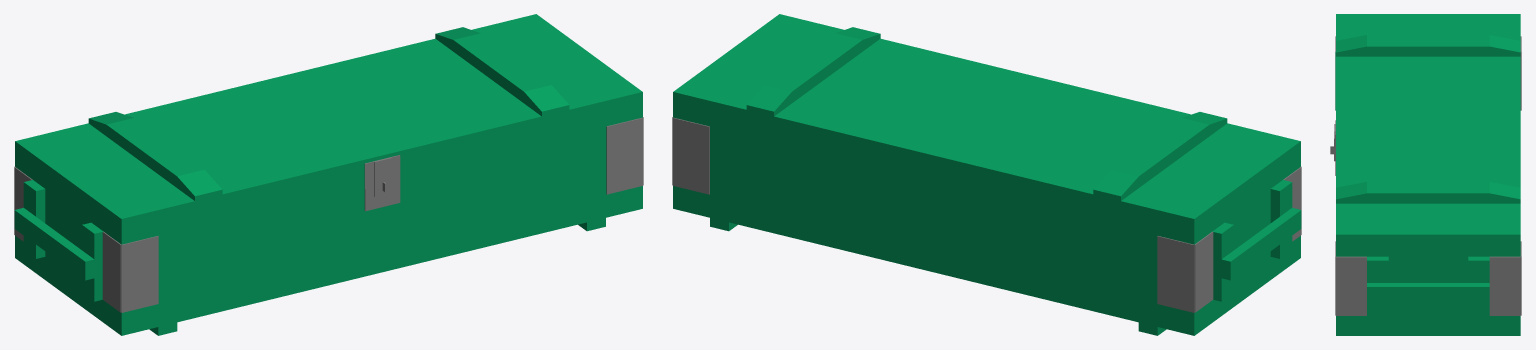
The model's file is SmallMilitaryCrate.fbx.
3 renders of one model, left to right at view 1: azimuth 30°, elevation 25°; view 2: azimuth 150°, elevation 25°; view 3: azimuth 270°, elevation 25°, orthographic. The views are drawn at different scales.
Parts seen in each view (by area): view 1: Cube; view 2: Cube; view 3: Cube.
Part boxes in pixels (x1,y1,x2,y2): Cube: [14, 14, 643, 335]; Cube: [672, 14, 1301, 335]; Cube: [1330, 14, 1521, 335].
Size of the model in its own units: 606 by 143 by 207.
